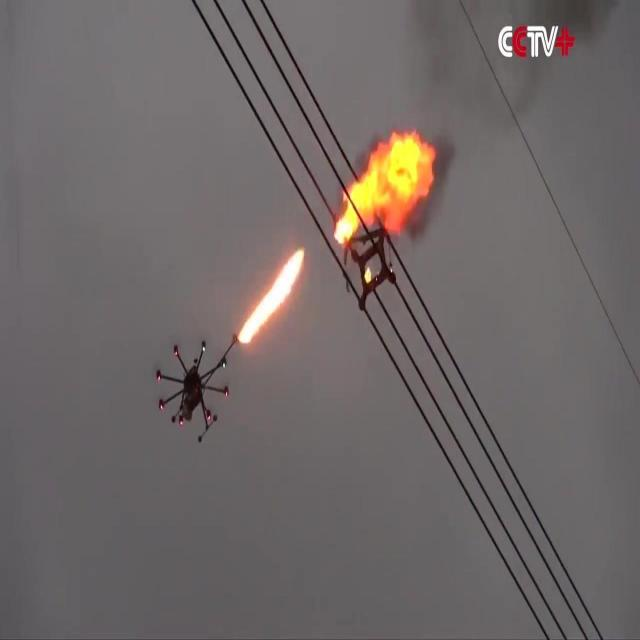UAV: (156, 334, 236, 444)
